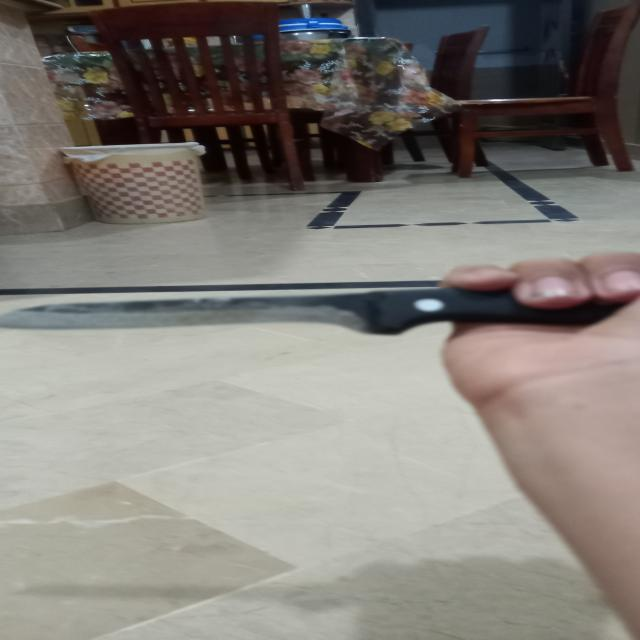senjata_tajam: (0, 284, 526, 336)
